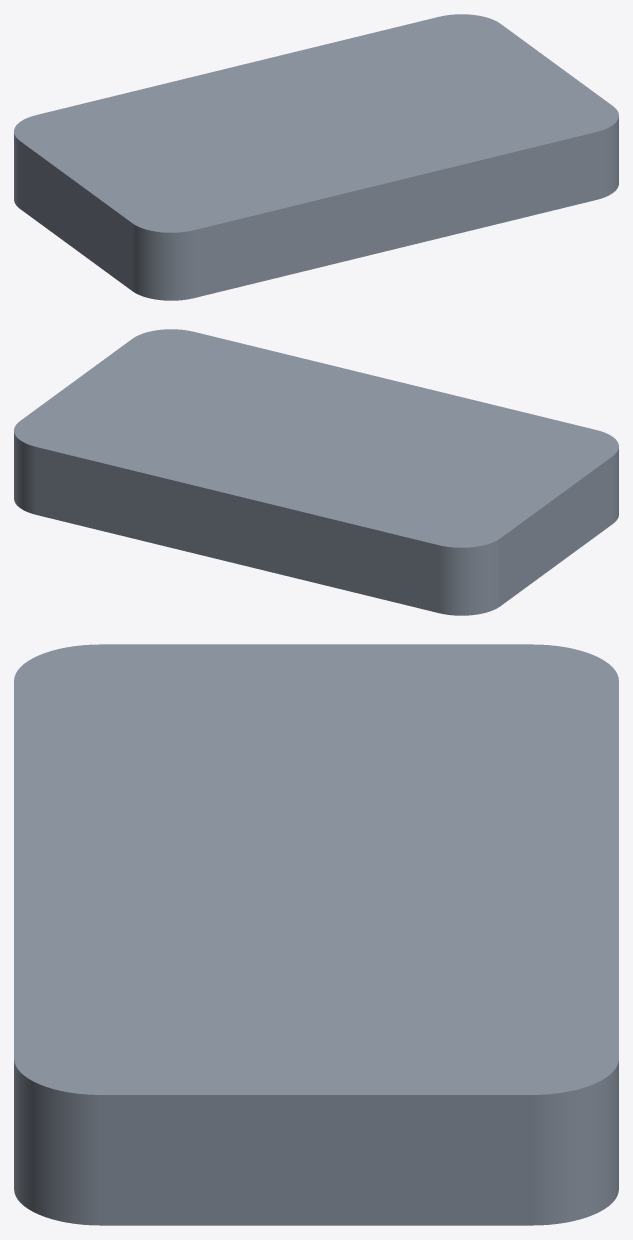
File: step_01.glb
3 renders of one model, top to bottom at view 1: azimuth 30°, elevation 25°; view 2: azimuth 150°, elevation 25°; view 3: azimuth 270°, elevation 25°, orthographic. The views are drawn at different scales.
Parts seen in each view (by area): view 1: part__pedestal bearing; view 2: part__pedestal bearing; view 3: part__pedestal bearing.
Boxes of the visible parts, x1,y1,x2,y2 form: part__pedestal bearing: (14,14,618,300); part__pedestal bearing: (14,329,618,615); part__pedestal bearing: (14,644,618,1225).
Bounding box in the file's own units: 74 × 10 × 42.
